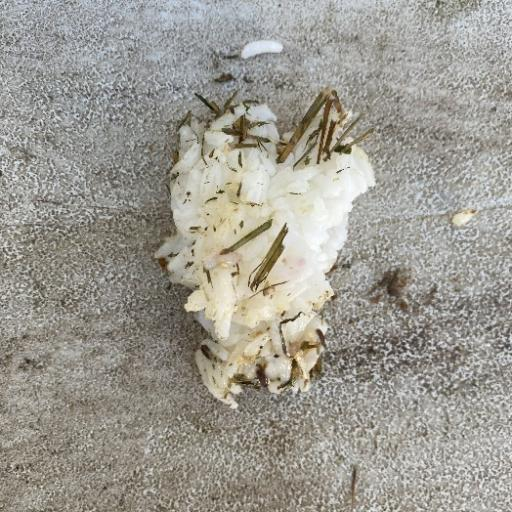Waste: (154, 85, 378, 409)
